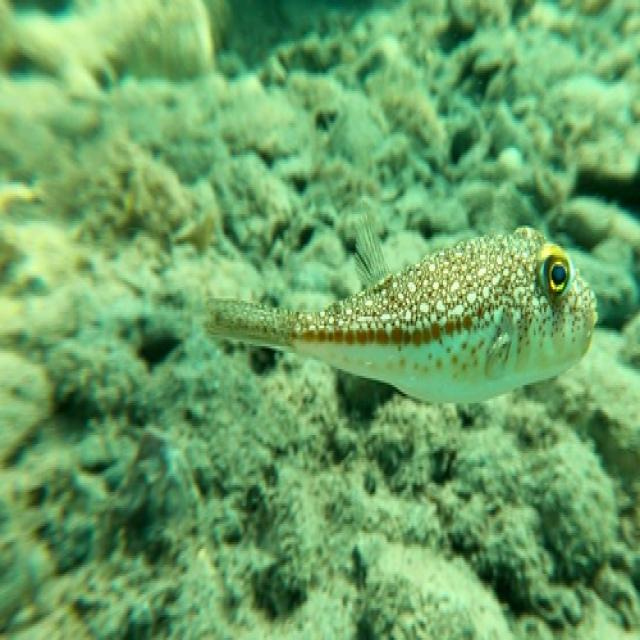Balik: (207, 217, 596, 403)
